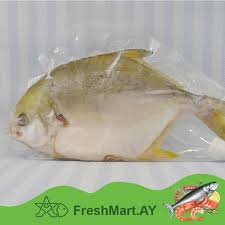Ikan Bawal: (6, 43, 225, 162)
